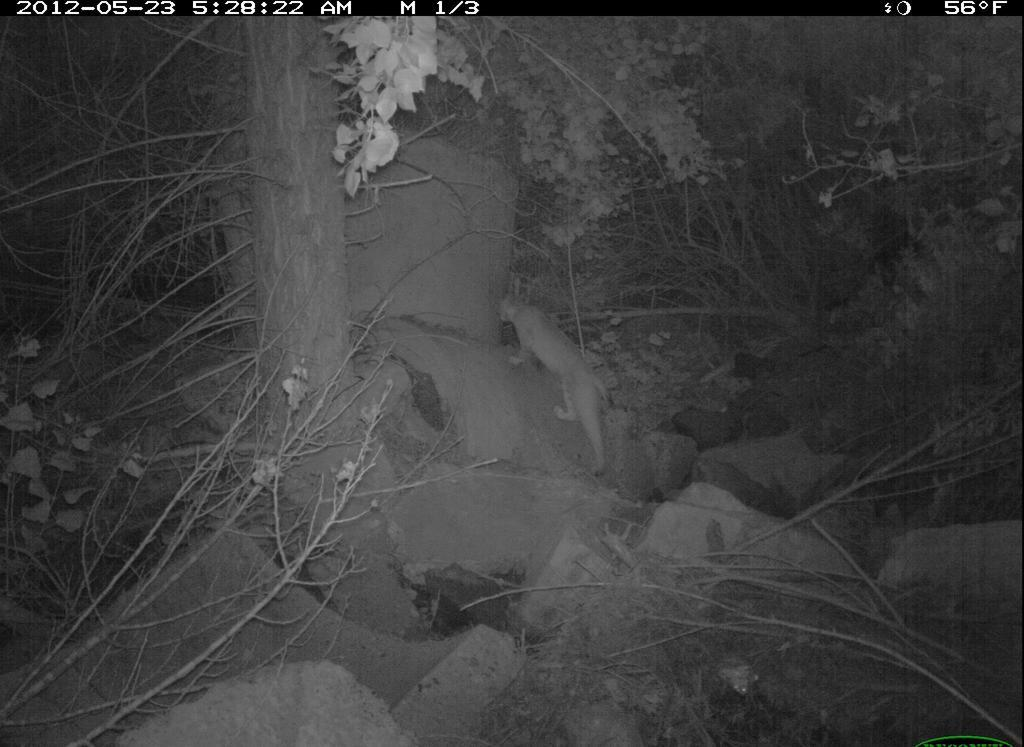bobcat: (493, 287, 630, 489)
